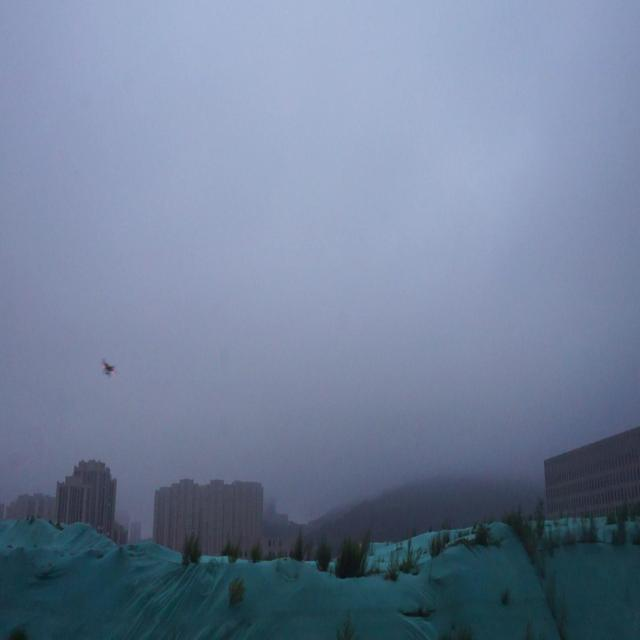drone: (100, 356, 118, 381)
